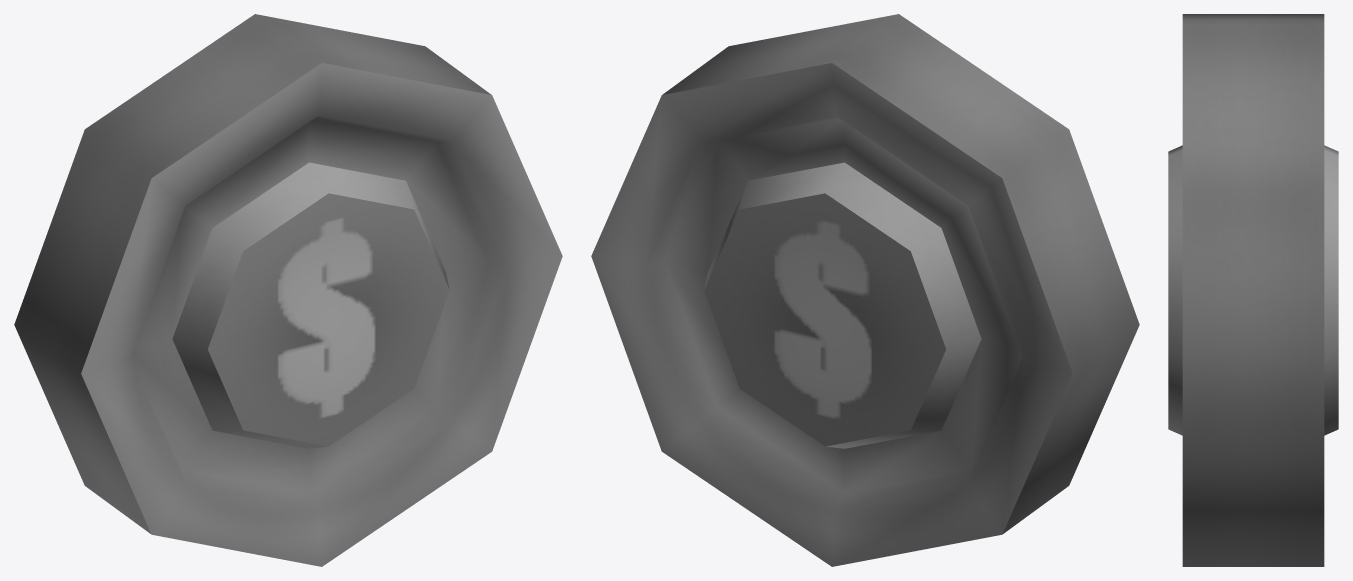
The model's file is coin.fbx.
3 views of the same model, side by side, from view 1: azimuth 30°, elevation 25°; view 2: azimuth 150°, elevation 25°; view 3: azimuth 270°, elevation 25° (orthographic). The views are drawn at different scales.
Visible parts, largest first — view 1: Cylinder; view 2: Cylinder; view 3: Cylinder.
Part boxes in pixels (x1,y1,x2,y2): Cylinder: (14,14,562,566); Cylinder: (591,14,1139,566); Cylinder: (1168,14,1338,566).
Size of the model in its own units: 268 by 268 by 77.6.
